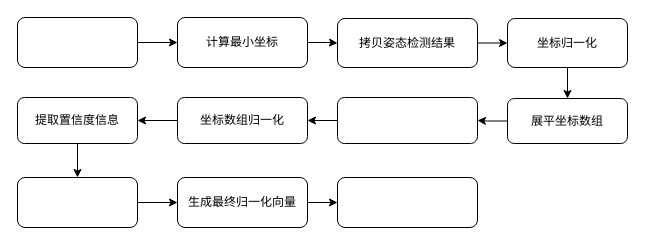
Image size: 645x245. Some labels were removed from this diagram. The centre of each missing label's shape, as x and y in pixels:
"获取姿态检测结果" goes at point 77,42.
"计算坐标数组 L2 范数" goes at point 407,120.
"计算置信度总和" goes at point 77,202.
"返回结果" goes at point 407,202.
